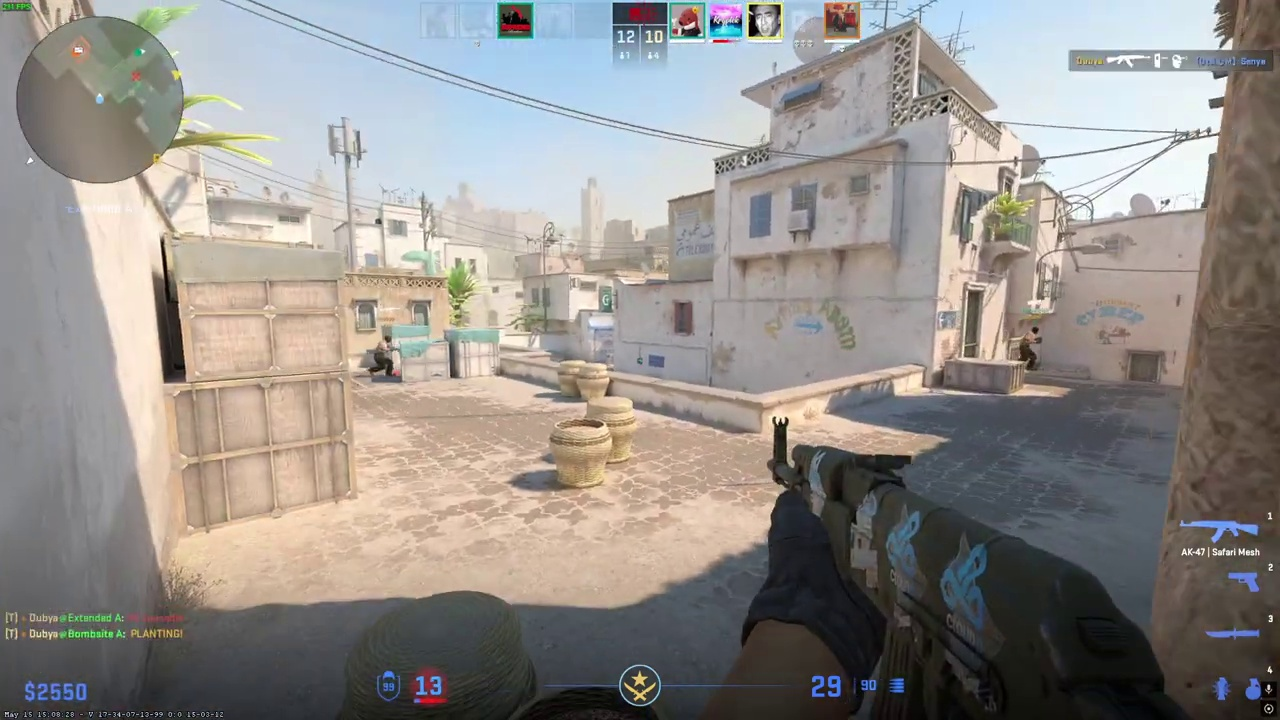Terrorist: (369, 335, 398, 377), (1019, 326, 1041, 371)
